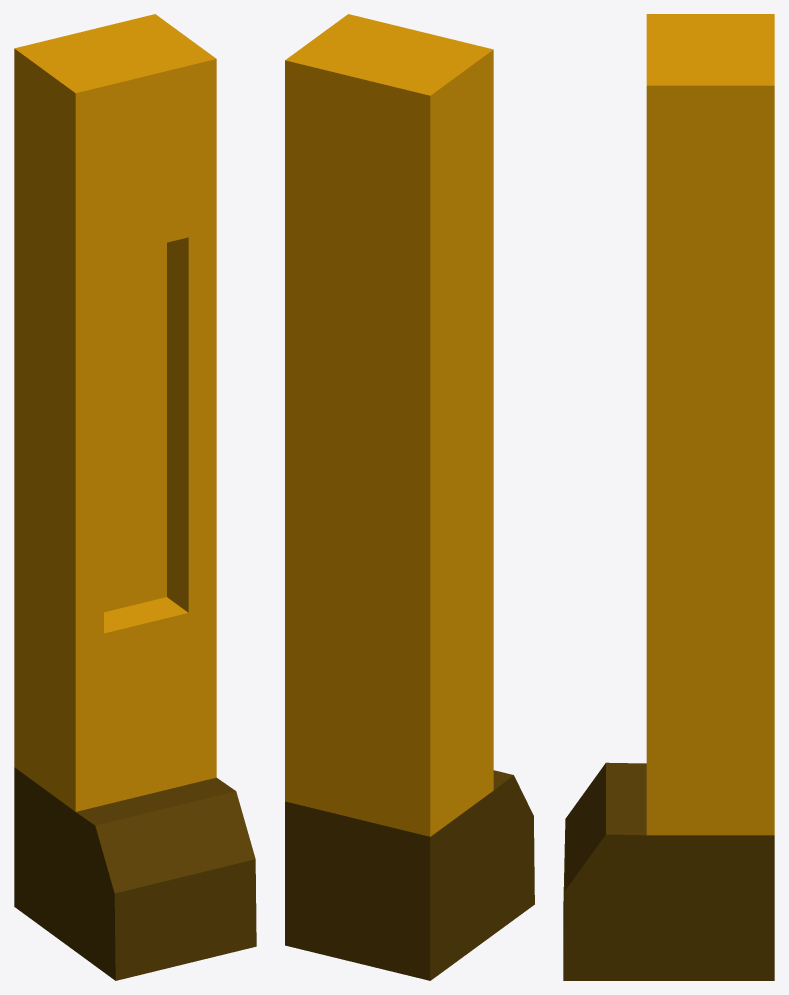
The model's file is Small Wall.fbx.
3 renders of one model, left to right at view 1: azimuth 30°, elevation 25°; view 2: azimuth 150°, elevation 25°; view 3: azimuth 270°, elevation 25°, orthographic. The views are drawn at different scales.
Visible parts, largest first — view 1: Cube.014; view 2: Cube.014; view 3: Cube.014.
Boxes of the visible parts, x1,y1,x2,y2 form: Cube.014: (14,14,256,980); Cube.014: (285,14,534,980); Cube.014: (563,14,774,980).
Size of the model in its own units: 34.38 by 200 by 42.8.
